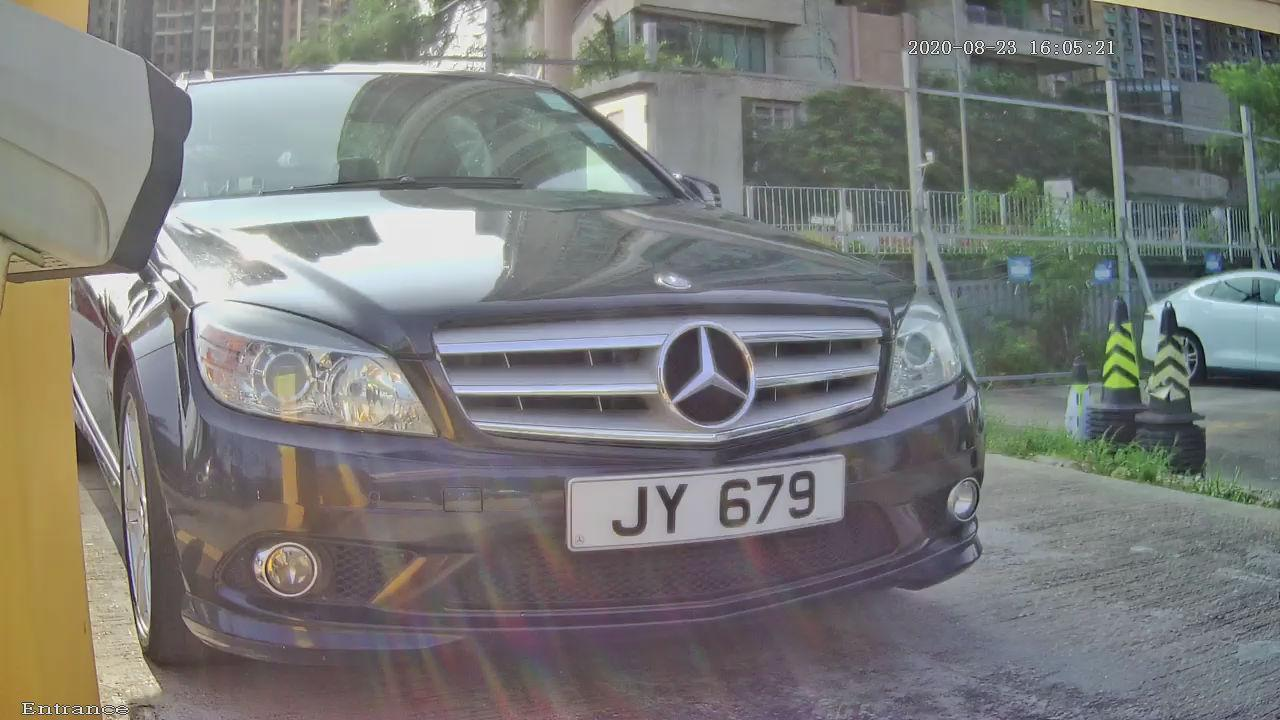Car: (46, 7, 1081, 701)
License Plate: (555, 447, 858, 557)
